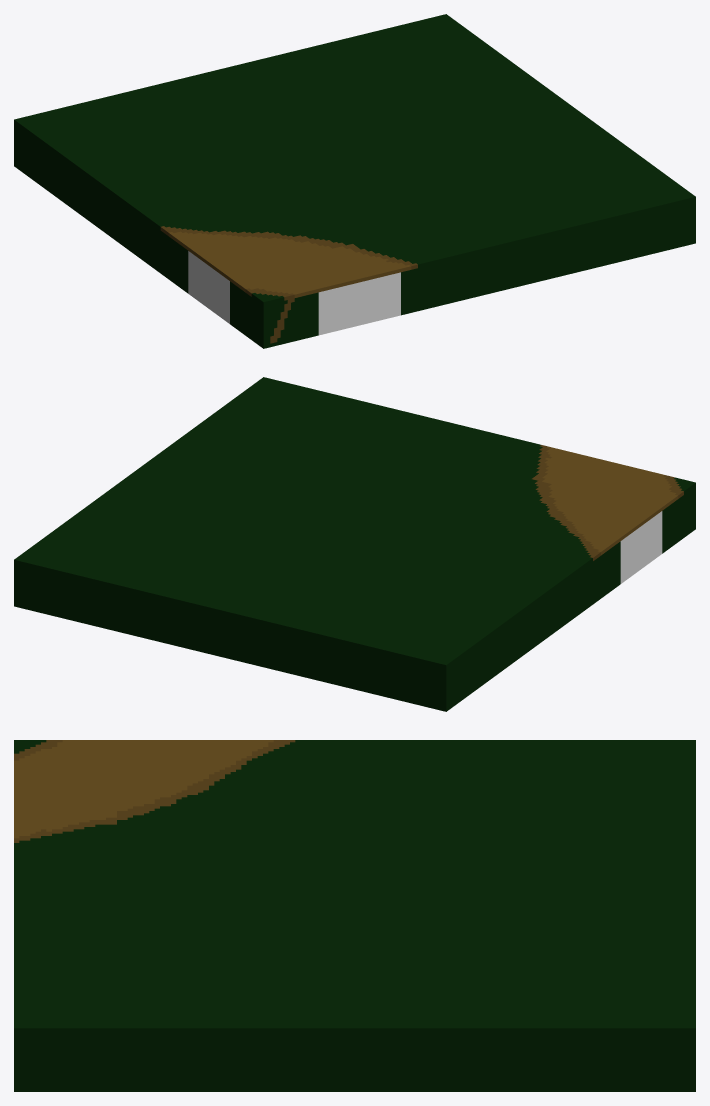
Rendered from map-49.obj.
3 renders of one model, top to bottom at view 1: azimuth 30°, elevation 25°; view 2: azimuth 150°, elevation 25°; view 3: azimuth 270°, elevation 25°, orthographic. The views are drawn at different scales.
Visible parts, largest first — view 1: map-49; view 2: map-49; view 3: map-49.
Part boxes in pixels (x1,y1,x2,y2): map-49: (14, 14, 695, 348); map-49: (14, 377, 695, 711); map-49: (14, 740, 695, 1091).
Bounding box in the file's own units: 126 × 13 × 126.
1 material, 1 textured.
